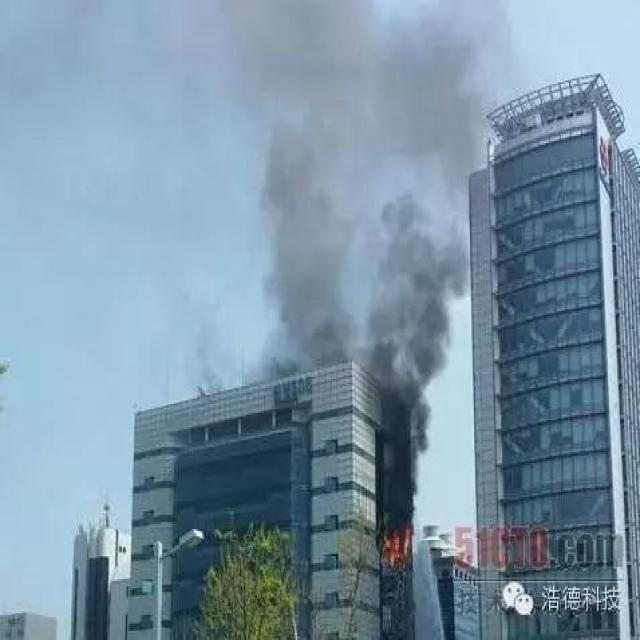Fire: (379, 528, 411, 568)
Smoke: (234, 1, 498, 536)
